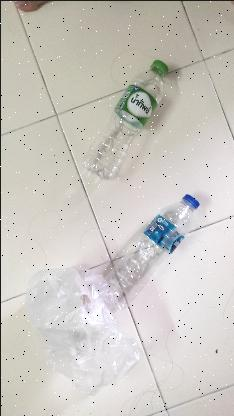Others: (18, 263, 144, 401)
Plastic Bottle: (100, 188, 214, 310), (79, 56, 174, 180)
